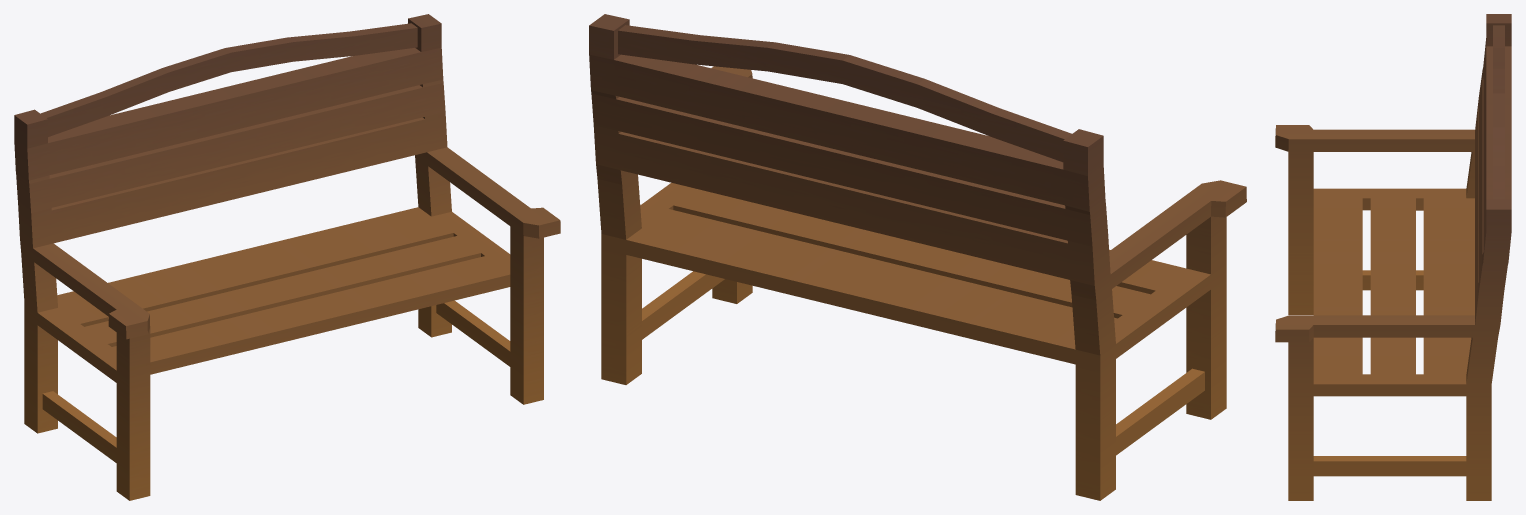
The model's file is bench.fbx.
The picture shows the model from 3 angles, left to right: view 1: azimuth 30°, elevation 25°; view 2: azimuth 150°, elevation 25°; view 3: azimuth 270°, elevation 25°; orthographic projection. The views are drawn at different scales.
Parts seen in each view (by area): view 1: Cube; view 2: Cube; view 3: Cube.
Part boxes in pixels (x1=…): Cube: x1=14, y1=14, x2=560, y2=500; Cube: x1=589, y1=14, x2=1246, y2=500; Cube: x1=1275, y1=14, x2=1511, y2=500.
Bounding box in the file's own units: 124 × 60.47 × 87.54.
